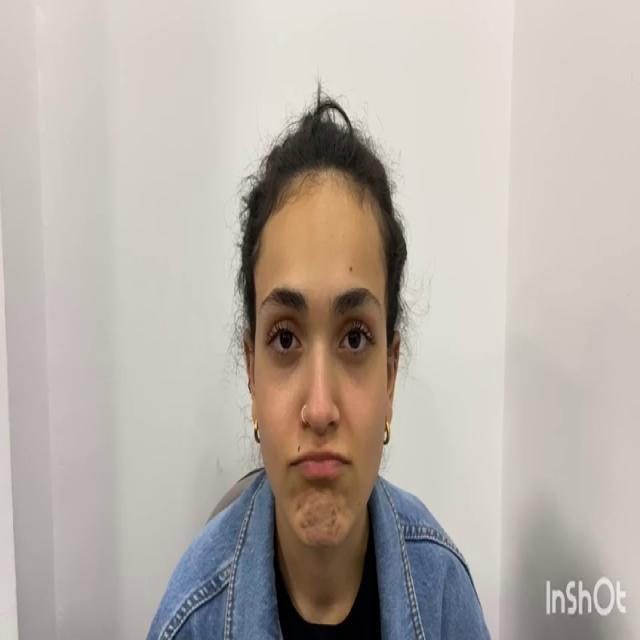Neutral: (240, 170, 405, 570)
